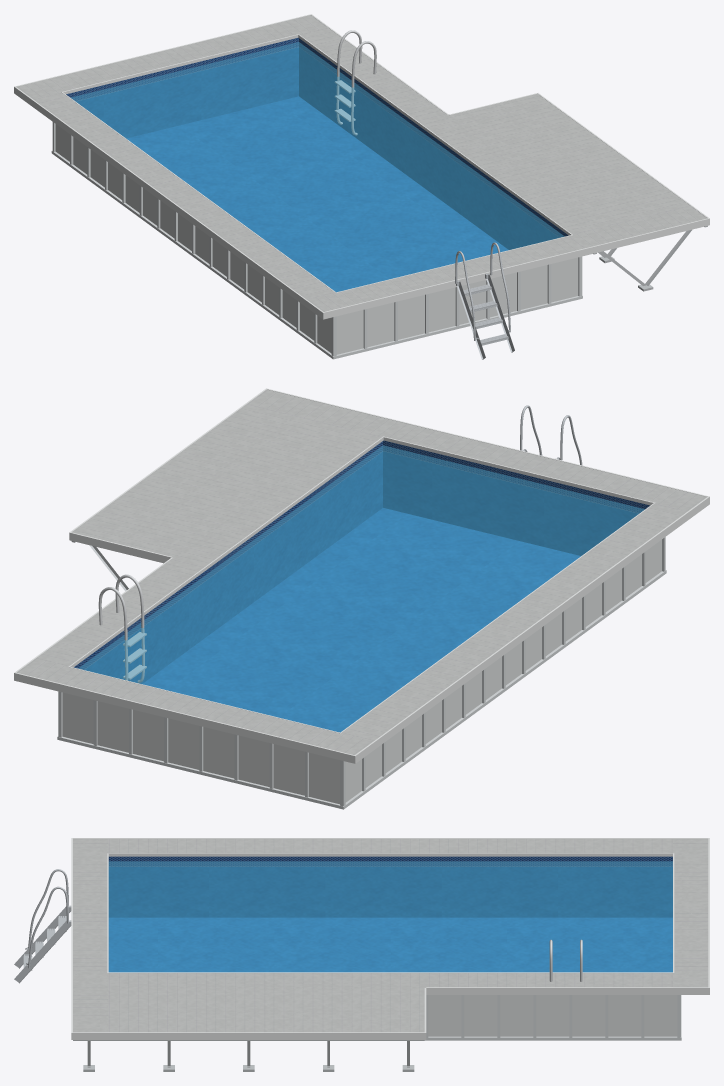
Rendered from kayak-pool-16x32-white-l-ag-nofence.747a5184b3.glb.
The picture shows the model from 3 angles, top to bottom: view 1: azimuth 30°, elevation 25°; view 2: azimuth 150°, elevation 25°; view 3: azimuth 270°, elevation 25°; orthographic projection. The views are drawn at different scales.
Visible parts, largest first — view 1: water, deck, liner_floor, liner_wall, wall, fascia, upright, ladder, steel, stud; view 2: water, deck, liner_floor, liner_wall, wall, fascia, upright, steel; view 3: water, deck, liner_wall, liner_floor, wall, fascia, upright, ladder, stud.
Part boxes in pixels (<box>): water: <box>71,42,564,292</box>; deck: <box>16,15,707,311</box>; liner_floor: <box>126,96,508,292</box>; liner_wall: <box>66,37,568,249</box>; wall: <box>55,124,578,354</box>; fascia: <box>14,14,709,319</box>; upright: <box>51,122,582,359</box>; ladder: <box>455,242,514,359</box>; steel: <box>334,30,376,135</box>; stud: <box>593,226,707,291</box>; water: <box>78,445,644,732</box>; deck: <box>17,389,706,755</box>; liner_floor: <box>142,508,580,732</box>; liner_wall: <box>74,440,649,683</box>; wall: <box>62,539,661,804</box>; fascia: <box>14,388,709,763</box>; upright: <box>57,537,666,809</box>; steel: <box>98,574,146,682</box>; water: <box>108,861,672,972</box>; deck: <box>73,839,708,1032</box>; liner_wall: <box>108,856,672,917</box>; liner_floor: <box>108,917,672,972</box>; wall: <box>428,995,677,1036</box>; fascia: <box>71,838,709,1039</box>; upright: <box>424,995,681,1040</box>; ladder: <box>14,869,71,983</box>; stud: <box>73,1040,424,1071</box>.
Bounding box in the file's own units: 7.93 × 1.9 × 11.96.
10 materials, 3 textured.
